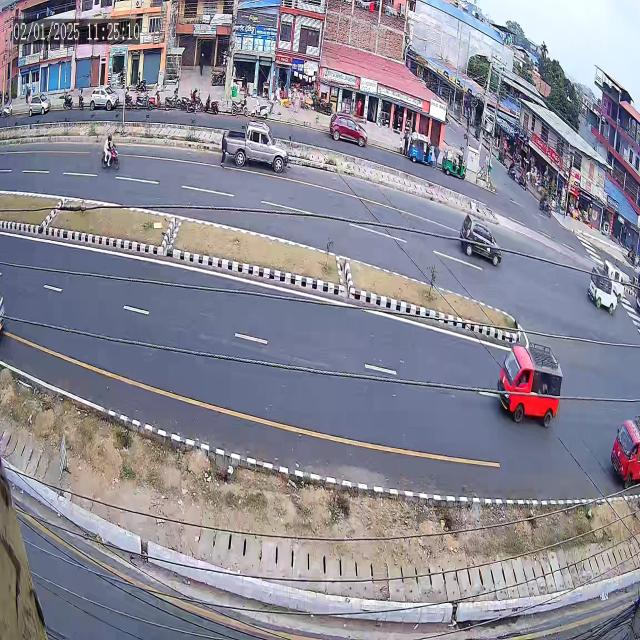car: (448, 203, 508, 280)
motorcycle: (94, 124, 126, 186)
van: (485, 326, 575, 435), (580, 256, 620, 320)
